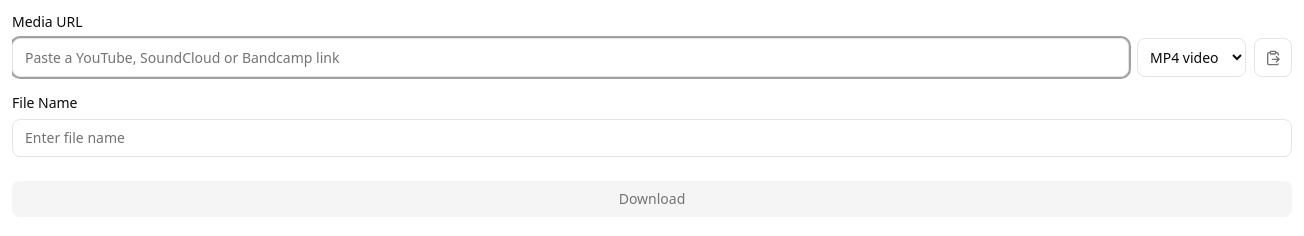
Test: DownloadForm › enables the submit button when all fields have values
Type "https://www.youtube.com/watch?v=abc" into the field labelled "Media URL". click: [570, 58]
box: [12, 38, 1129, 77]
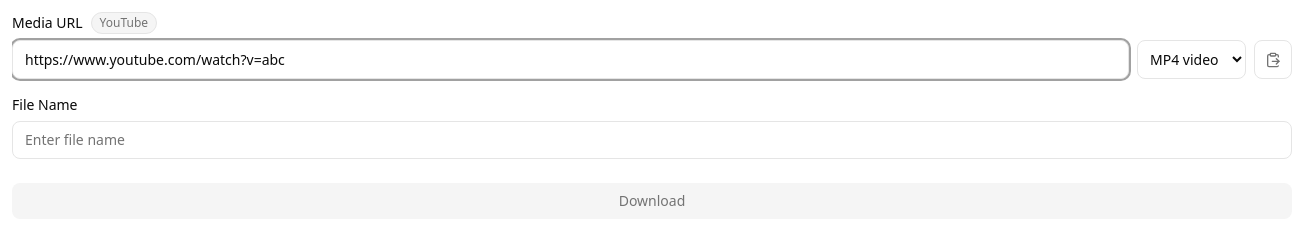
Type "My Video" into the field labelled "File Name". click: [652, 140]
box: [12, 121, 1292, 159]
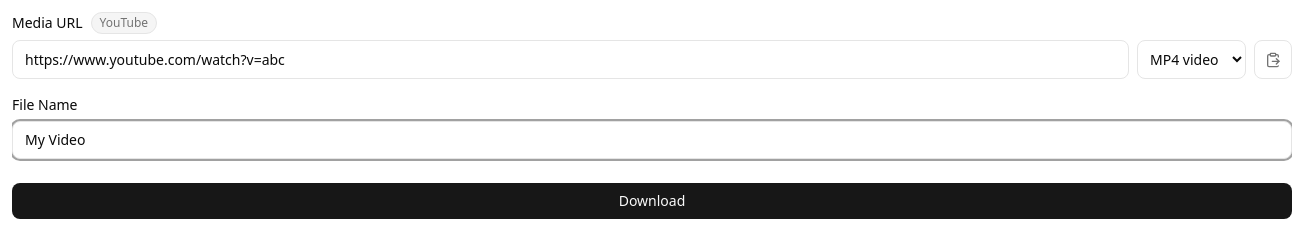
Now the button "Download" is enabled, box [12, 183, 1292, 219]
